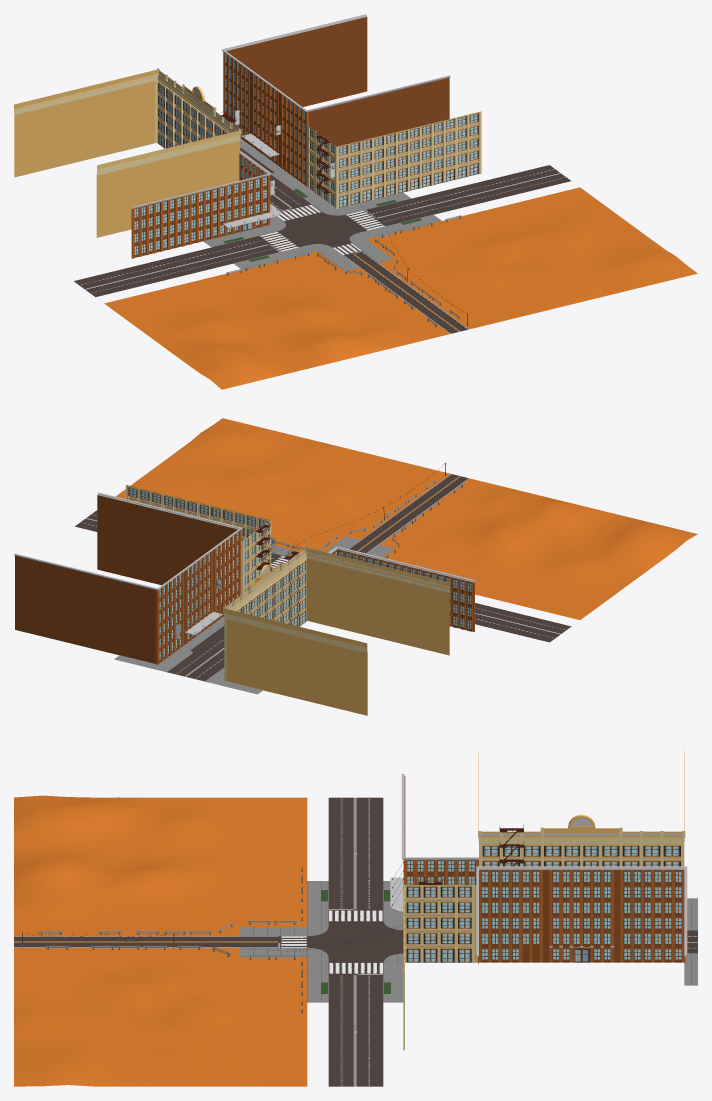
The model's file is TileCityDesert.fbx.
3 views of the same model, one above another, from view 1: azimuth 30°, elevation 25°; view 2: azimuth 150°, elevation 25°; view 3: azimuth 270°, elevation 25° (orthographic). The views are drawn at different scales.
Parts seen in each view (by area): view 1: Plane.045, Road1.018, Sidewalk1.057, Sidewalk1.063, Sidewalk1.056, Sidewalk1.062, Sidewalk1.060, Sidewalk1.061, Sidewalk1.055, Sidewalk1.058, Sidewalk1.054, Sidewalk1.059 (+17 smaller); view 2: Plane.045, Sidewalk1.063, Sidewalk1.057, Sidewalk1.056, Sidewalk1.062, Sidewalk1.060, Sidewalk1.055, Sidewalk1.061, Sidewalk1.054, Sidewalk1.058, Sidewalk1.053, Sidewalk1.059 (+10 smaller); view 3: Plane.045, Road1.018, Sidewalk1.060, Sidewalk1.054, Sidewalk1.056, Sidewalk1.052, Sidewalk1.053, Sidewalk1.055, Sidewalk1.057, Sidewalk1.063, Road.001, Road1.001 (+15 smaller).
Boxes of the visible parts, x1,y1,x2,y2 form: Plane.045: (104,187,697,389); Road1.018: (74,165,570,297); Sidewalk1.057: (223,17,449,124); Sidewalk1.063: (14,80,240,187); Sidewalk1.056: (223,29,449,137); Sidewalk1.062: (14,93,238,200); Sidewalk1.060: (14,68,241,175); Sidewalk1.061: (14,105,238,212); Sidewalk1.055: (223,42,449,149); Sidewalk1.058: (14,117,238,225); Sidewalk1.054: (223,54,449,162); Sidewalk1.059: (14,130,177,237); Plane.045: (116,418,697,619); Sidewalk1.063: (224,558,449,665); Sidewalk1.057: (15,495,240,602); Sidewalk1.056: (15,507,240,615); Sidewalk1.062: (224,571,449,678); Sidewalk1.060: (223,546,449,653); Sidewalk1.055: (15,520,240,627); Sidewalk1.061: (224,583,449,690); Sidewalk1.054: (15,532,240,639); Sidewalk1.058: (224,596,449,703); Sidewalk1.053: (15,545,240,652); Sidewalk1.059: (224,608,449,715); Plane.045: (14,795,307,1086); Road1.018: (328,797,383,1086); Sidewalk1.060: (478,750,685,844); Sidewalk1.054: (479,915,684,931); Sidewalk1.056: (479,884,684,900); Sidewalk1.052: (478,946,685,963); Sidewalk1.053: (479,931,684,946); Sidewalk1.055: (479,900,684,915); Sidewalk1.057: (479,869,684,884); Sidewalk1.063: (479,844,684,860); Road.001: (14,936,277,947); Road1.001: (307,921,403,962).
Size of the model in its own units: 20008 by 3456 by 20000.
